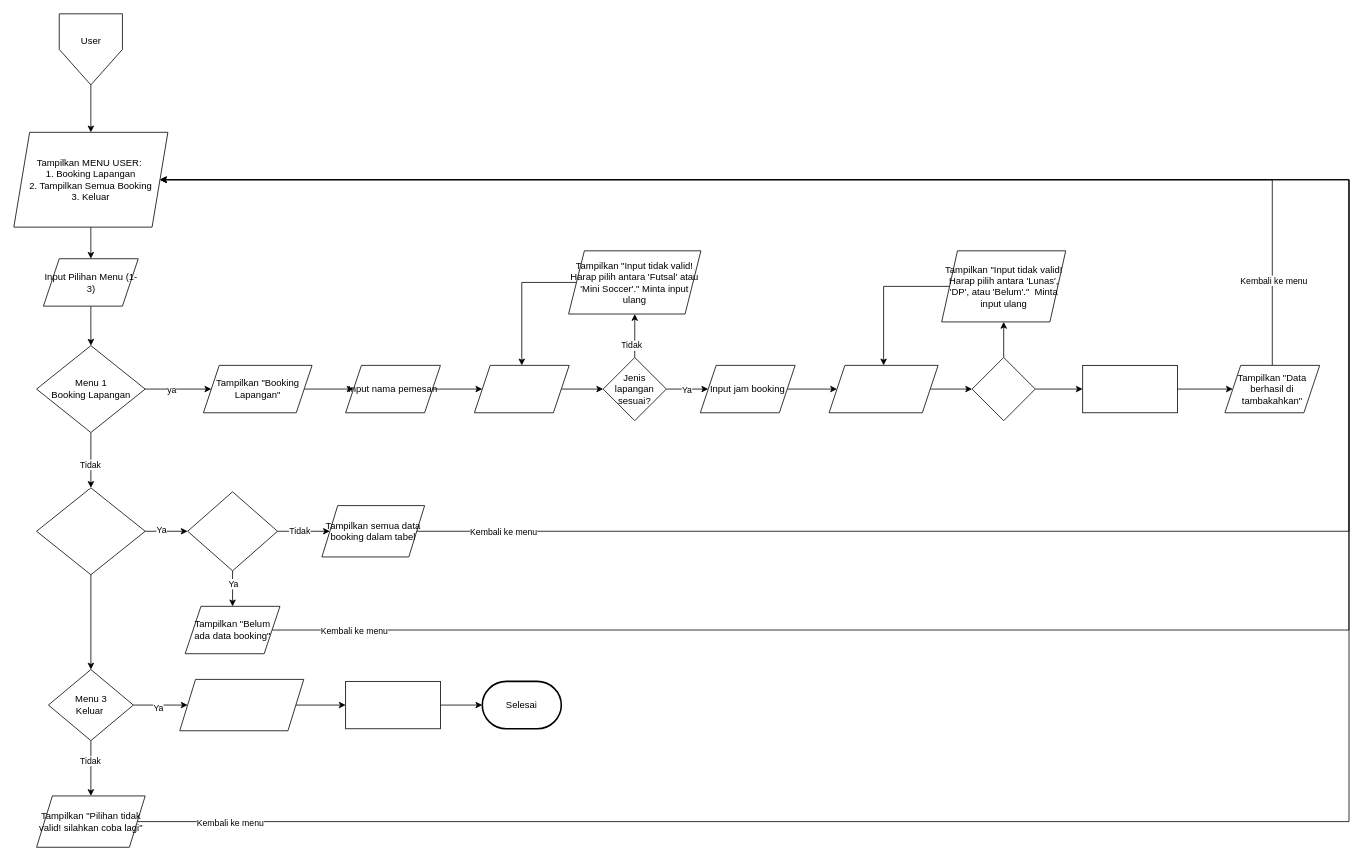
This 1370x861 diagram has some shape labels left out. Each missing label, with the box of its shape:
Daftar booking kosong?: (187, 491, 278, 571)
Input jenis lapangan (Futsal/Mini Soccer): (474, 365, 569, 413)
Input status pembayaran (Lunas/DP/Belum): (828, 365, 938, 413)
Jeda 1 detik: (345, 681, 440, 729)
Menu 2 Tampilkan Semua Booking: (36, 487, 145, 575)
Simpan data booking: (1082, 365, 1177, 413)
Status sesuai?: (971, 357, 1035, 421)
Tampilkan "Terima kasih, semoga hari Anda Menyenangkan: (179, 679, 304, 731)
